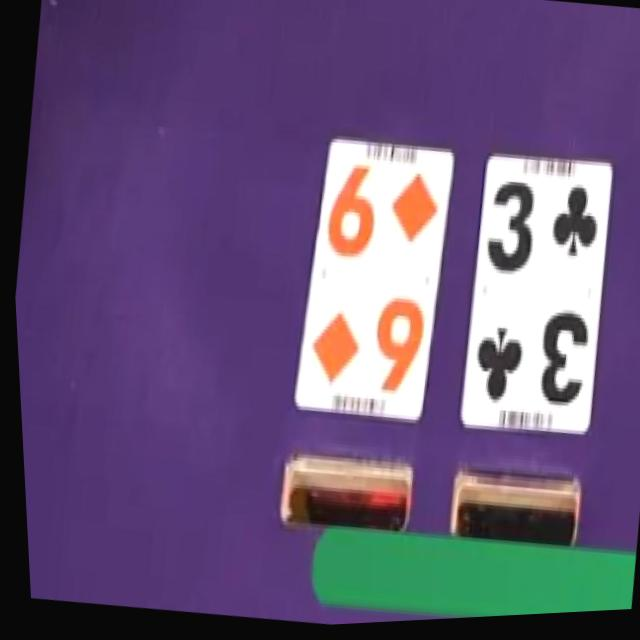Card-3: (457, 160, 609, 443)
Card-6: (290, 140, 451, 423)
